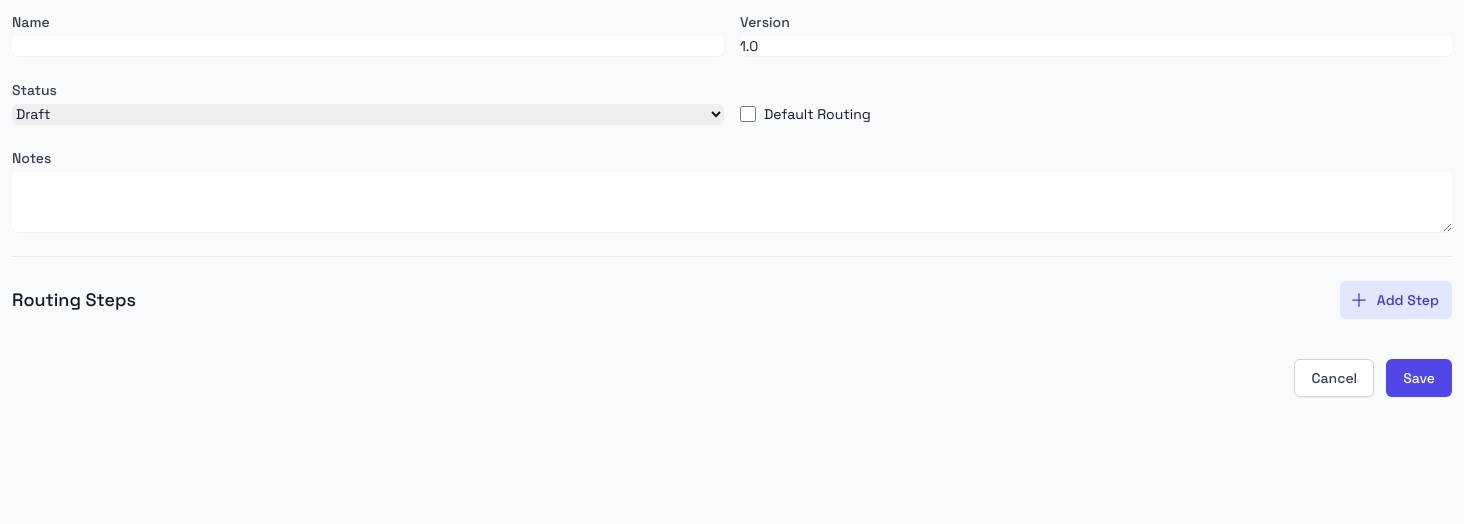
RoutingForm › shows fallback receive-to hint when selected location cannot be resolved
Step 1. Click the button "Add Step" → (1396, 300), box [1340,281,1452,319]
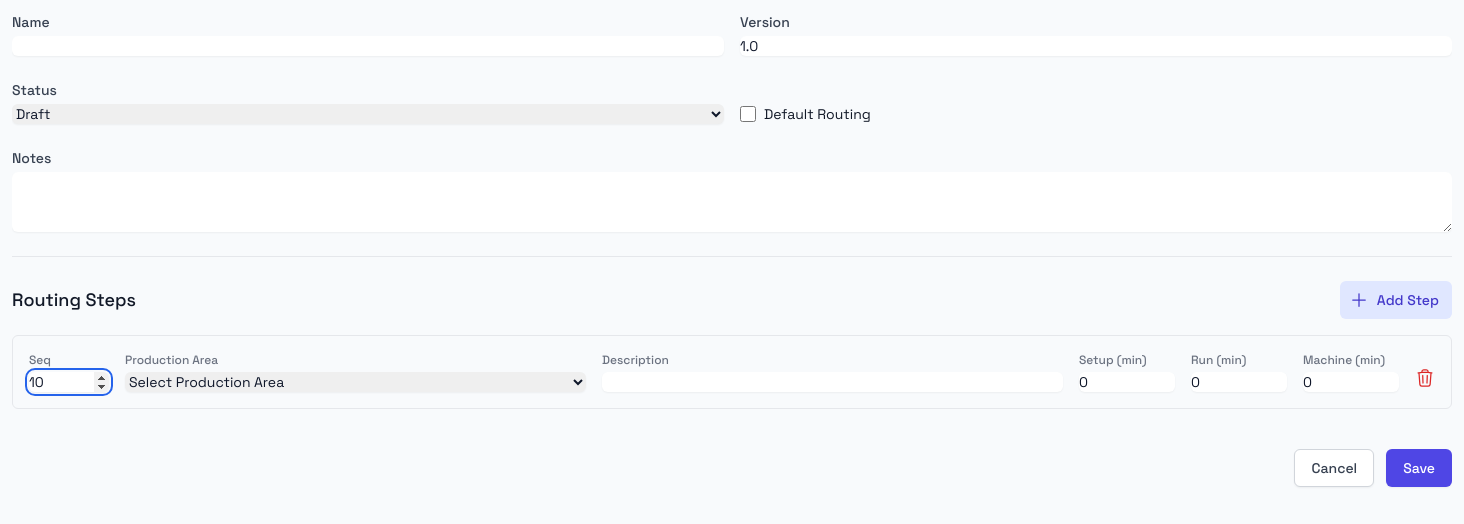
Step 2. Select "Roasting (ROAST)" in the dropdown named "steps.0.workCenterId" below "Production Area" → (356, 382), box [125,372,586,392]
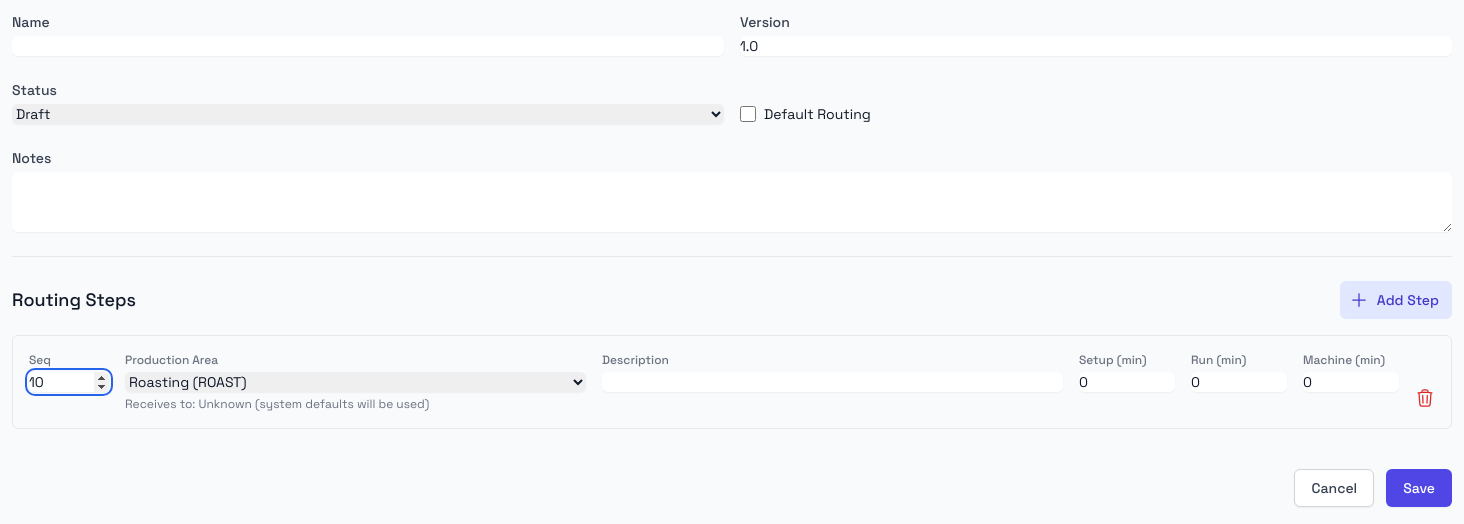
Result: the text "Receives to: Unknown (system defaults will be used)" is shown at [125,396,429,412]
